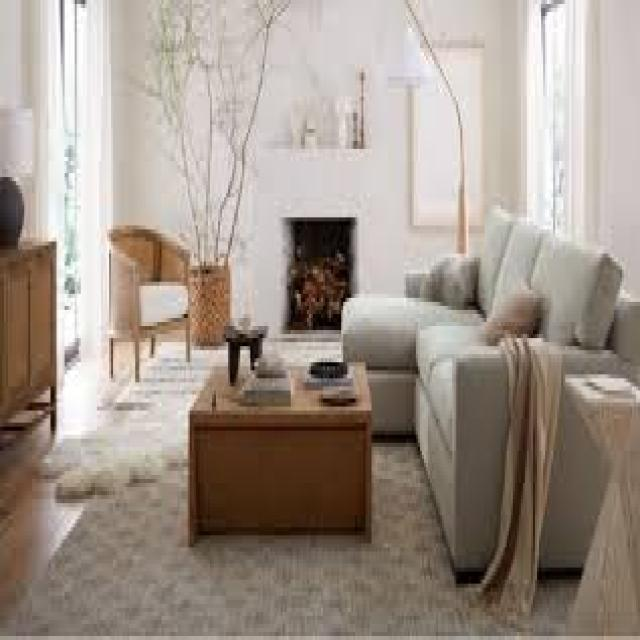Sofa: (348, 212, 640, 571), (109, 219, 195, 382)
Table: (184, 341, 394, 561), (572, 373, 640, 633)
